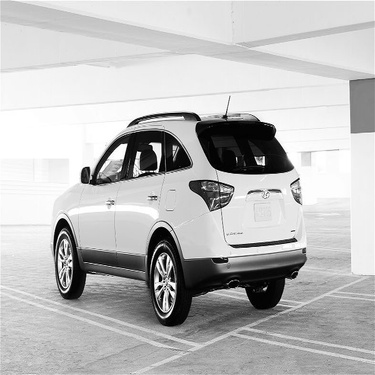car: (49, 88, 309, 328)
